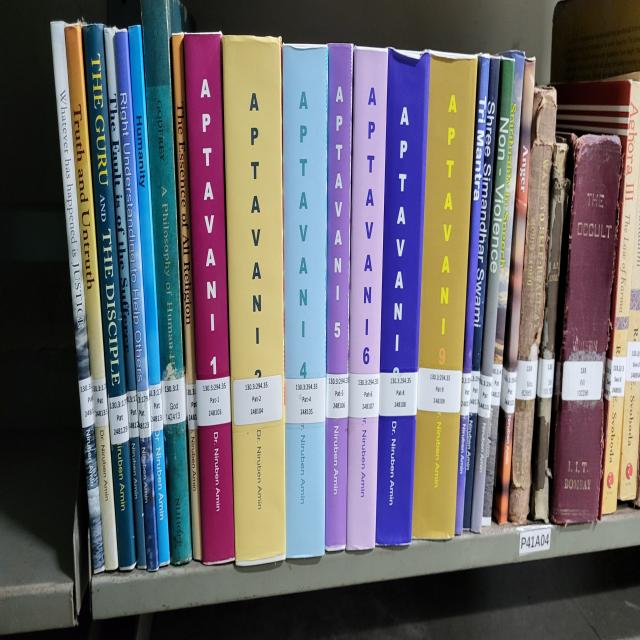Book: (222, 35, 286, 565), (412, 54, 478, 538), (65, 24, 119, 571), (82, 24, 136, 568), (51, 22, 104, 574), (141, 0, 192, 565), (550, 135, 621, 522), (184, 32, 235, 563), (376, 49, 430, 544), (115, 32, 159, 571), (282, 43, 328, 557), (104, 27, 146, 568), (129, 24, 170, 565), (470, 57, 515, 533), (346, 46, 388, 549), (509, 87, 556, 522), (492, 57, 535, 525), (455, 54, 490, 536), (171, 35, 201, 560), (531, 141, 570, 522), (466, 57, 500, 476), (325, 43, 352, 552), (376, 254, 420, 547), (494, 51, 525, 365)
Label: (232, 376, 282, 425), (418, 368, 462, 414), (285, 379, 326, 425), (379, 371, 418, 417), (196, 376, 231, 427), (561, 360, 604, 400), (349, 373, 380, 417), (161, 376, 186, 425), (326, 373, 349, 419), (108, 395, 129, 444), (515, 360, 538, 400), (91, 379, 109, 427), (536, 357, 555, 398), (79, 376, 94, 427), (500, 368, 516, 414), (149, 384, 164, 433), (478, 373, 492, 419), (138, 390, 151, 438), (126, 390, 139, 438), (186, 384, 198, 430), (460, 373, 471, 417), (469, 371, 480, 414), (491, 363, 502, 406), (494, 390, 498, 395)
